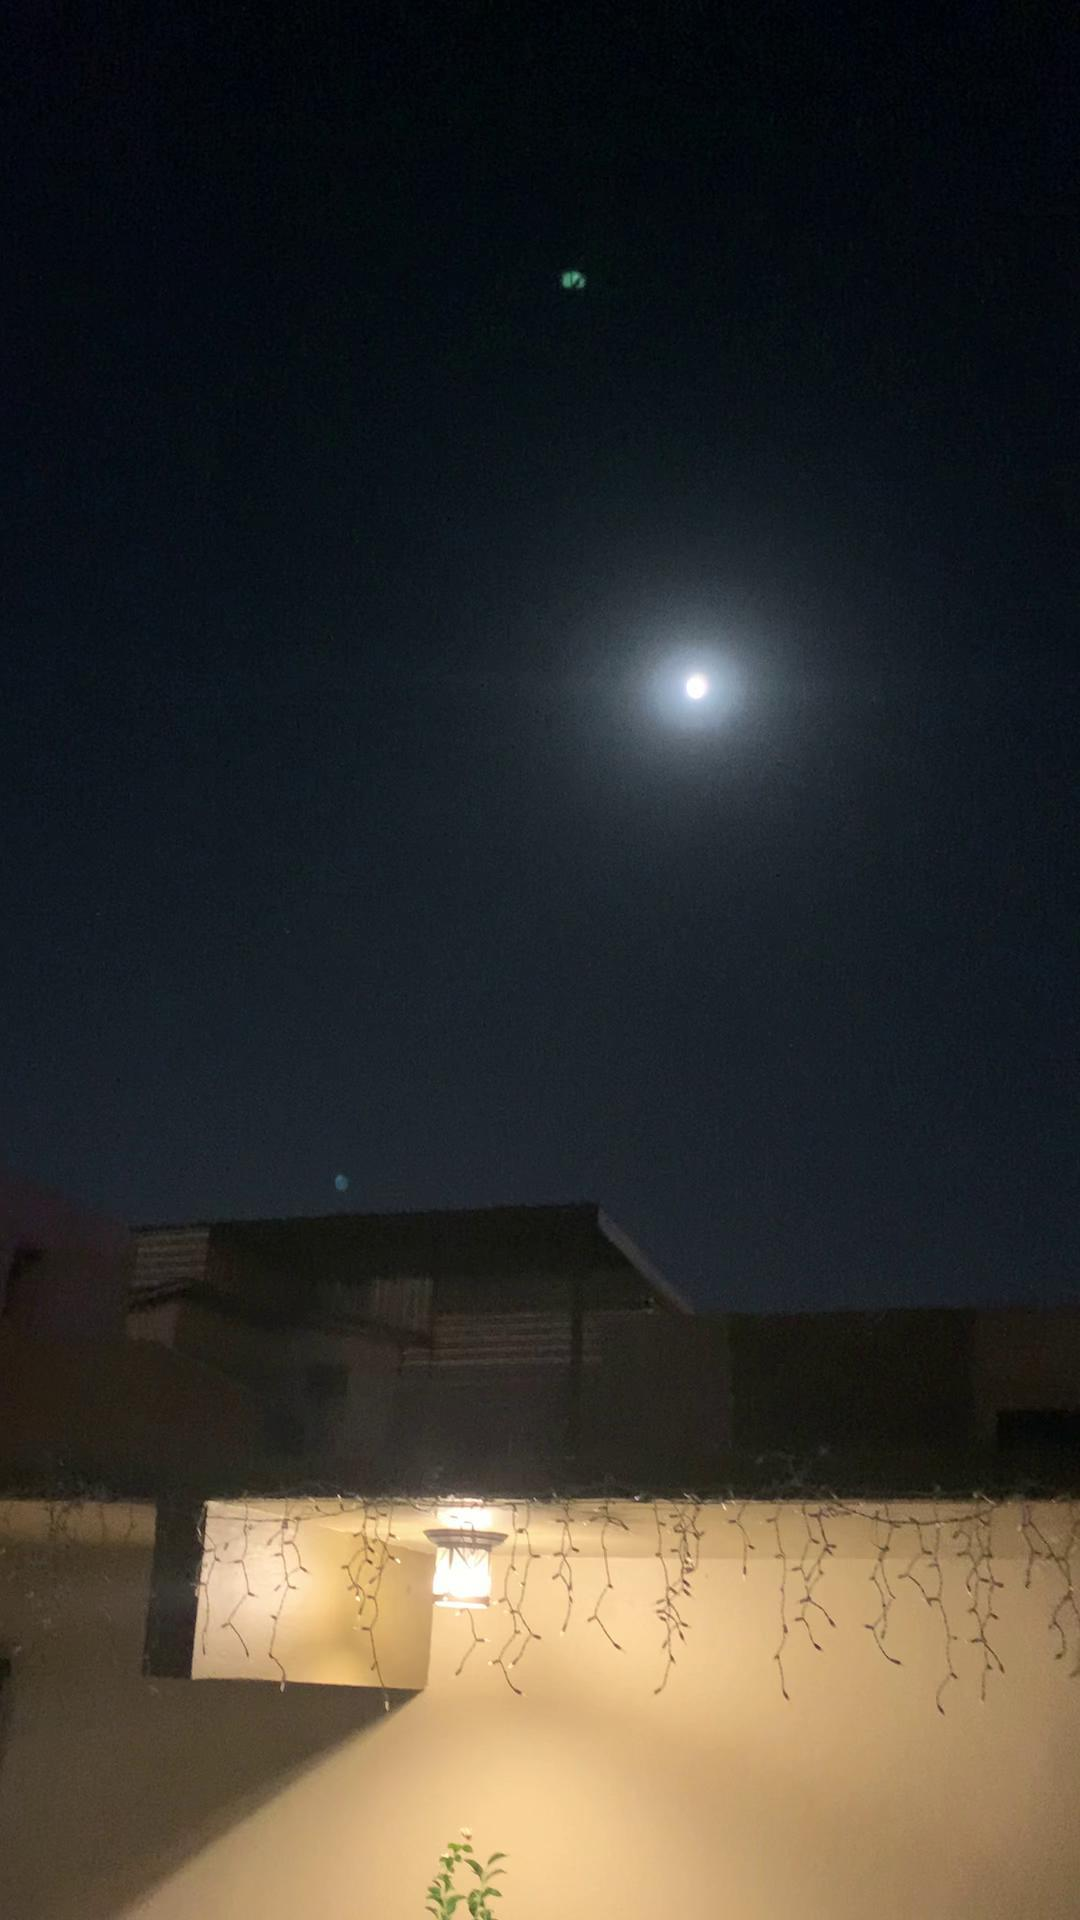moon: (665, 644, 752, 723)
